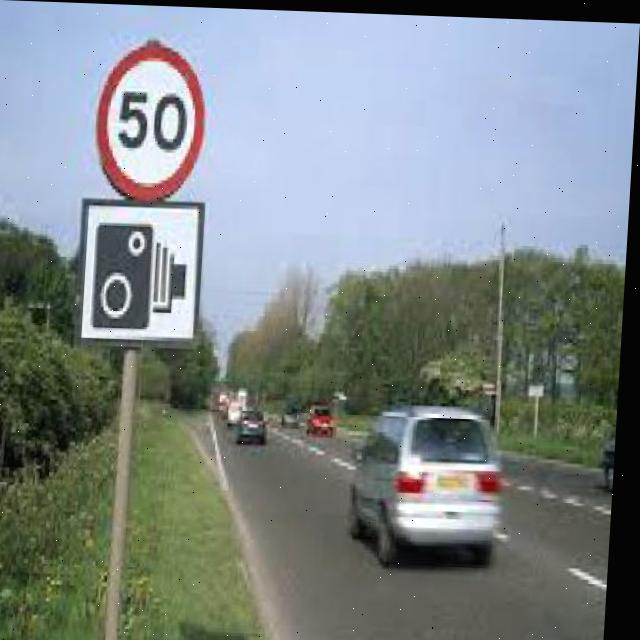Speed limit 50: (90, 33, 215, 201)
